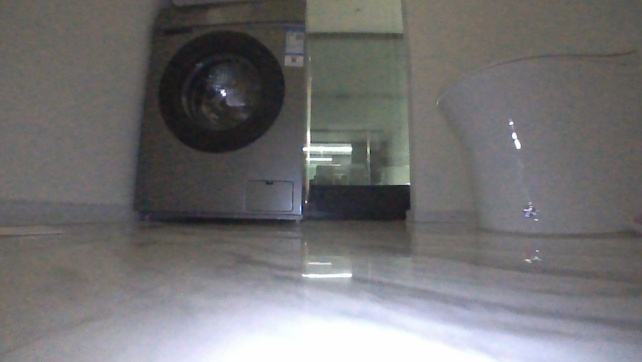toilet: (431, 41, 641, 240)
washing_machine: (126, 0, 315, 226)
